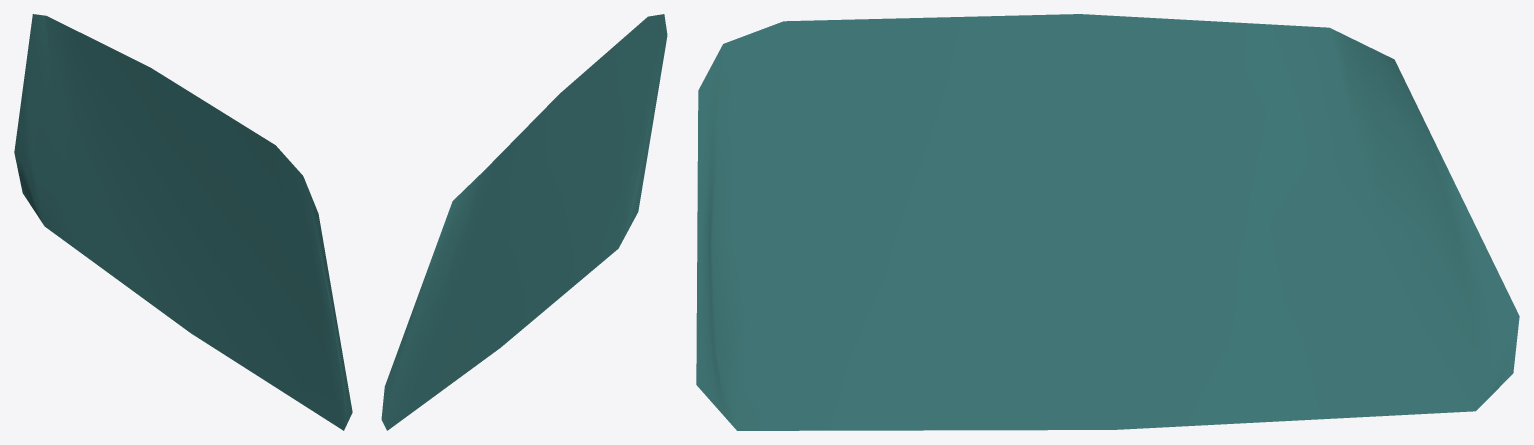
File: Classic_2_Glass_RL_Tesselated.fbx
3 views of the same model, side by side, from view 1: azimuth 30°, elevation 25°; view 2: azimuth 150°, elevation 25°; view 3: azimuth 270°, elevation 25° (orthographic). The views are drawn at different scales.
Visible parts, largest first — view 1: Classic_2_Glass_RL_Tesselated; view 2: Classic_2_Glass_RL_Tesselated; view 3: Classic_2_Glass_RL_Tesselated.
Boxes of the visible parts, x1,y1,x2,y2 form: Classic_2_Glass_RL_Tesselated: (14, 14, 352, 430); Classic_2_Glass_RL_Tesselated: (381, 14, 667, 430); Classic_2_Glass_RL_Tesselated: (696, 14, 1519, 430).
Size of the model in its own units: 19.69 by 74.24 by 145.
